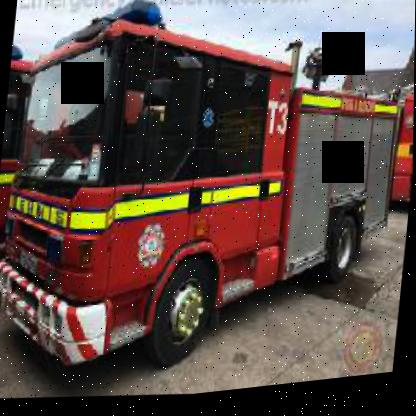emergency: (0, 0, 415, 409)
